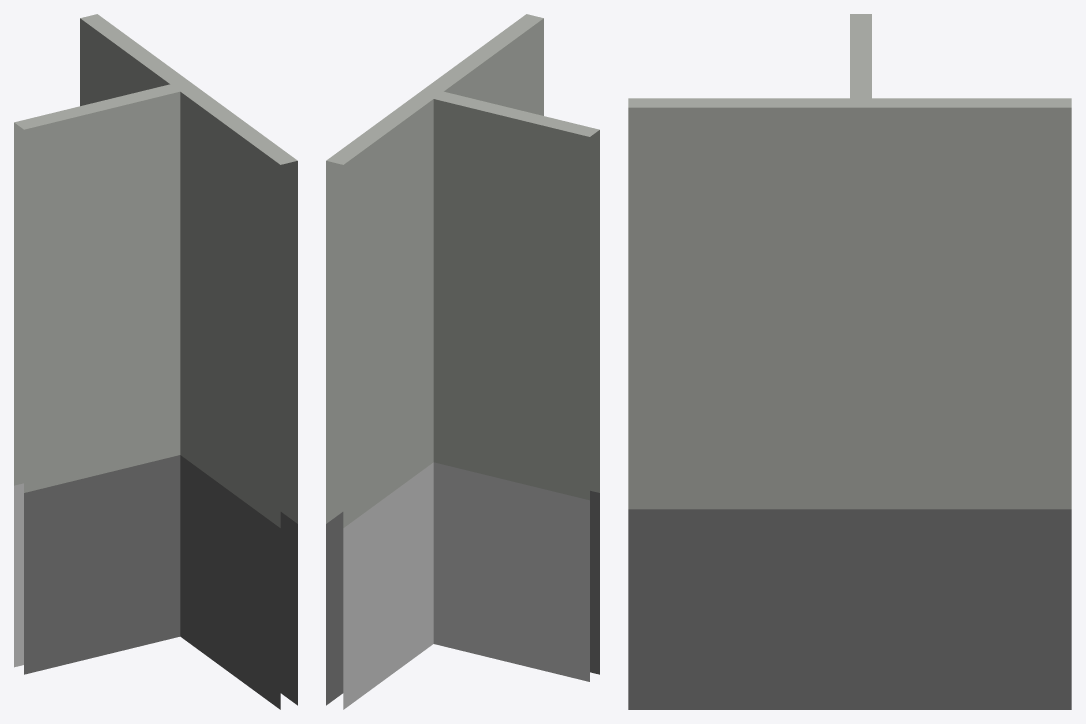
The model's file is SM_Wall_Angle_01.fbx.
The picture shows the model from 3 angles, left to right: view 1: azimuth 30°, elevation 25°; view 2: azimuth 150°, elevation 25°; view 3: azimuth 270°, elevation 25°; orthographic projection. The views are drawn at different scales.
Visible parts, largest first — view 1: SM_Wall_Angle_01; view 2: SM_Wall_Angle_01; view 3: SM_Wall_Angle_01.
Boxes of the visible parts, x1,y1,x2,y2 form: SM_Wall_Angle_01: [14, 14, 297, 709]; SM_Wall_Angle_01: [326, 14, 599, 709]; SM_Wall_Angle_01: [628, 14, 1071, 709].
Size of the model in its own units: 100 by 300 by 200.
